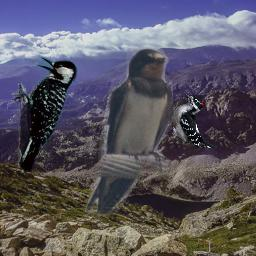Swallow: (85, 48, 173, 215)
Woodpecker: (11, 55, 80, 172), (171, 93, 217, 148)
